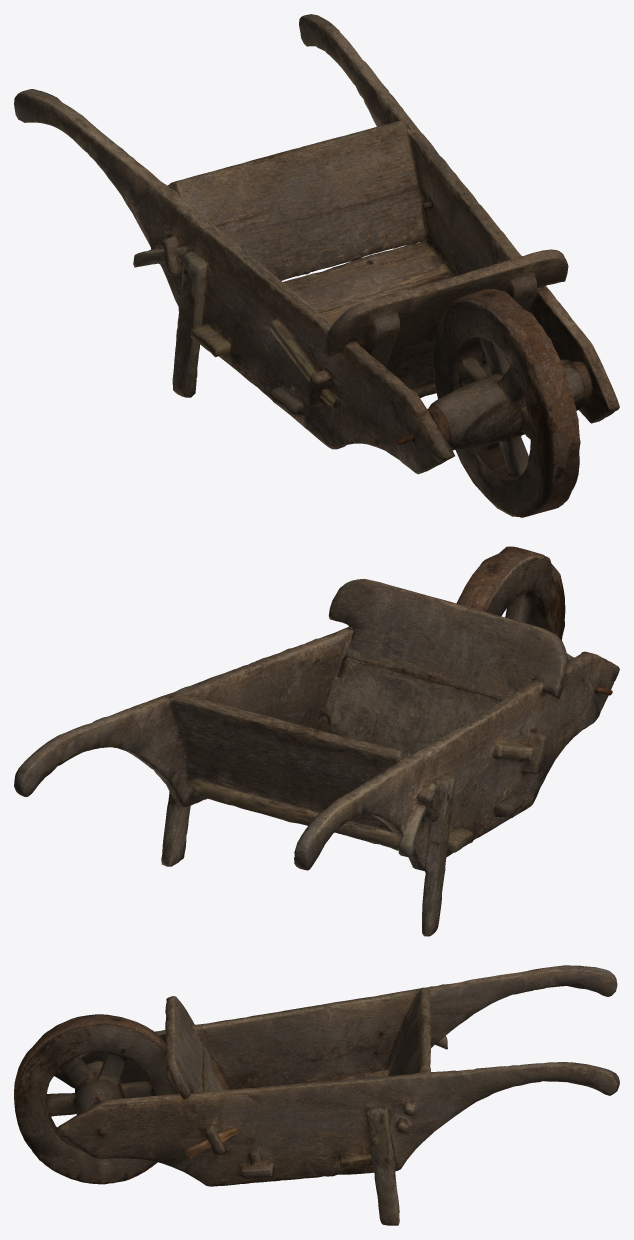
The model's file is tmruaaeda_tier_2.gltf.
3 renders of one model, top to bottom at view 1: azimuth 30°, elevation 25°; view 2: azimuth 150°, elevation 25°; view 3: azimuth 270°, elevation 25°, orthographic. The views are drawn at different scales.
Visible parts, largest first — view 1: tmruaaeda_LOD0_TIER2_000; view 2: tmruaaeda_LOD0_TIER2_000; view 3: tmruaaeda_LOD0_TIER2_000.
Boxes of the visible parts, x1=… form: tmruaaeda_LOD0_TIER2_000: x1=14, y1=14, x2=619, y2=517; tmruaaeda_LOD0_TIER2_000: x1=14, y1=546, x2=619, y2=936; tmruaaeda_LOD0_TIER2_000: x1=14, y1=965, x2=619, y2=1225.
Size of the model in its own units: 0.5998 by 0.4215 by 1.41.
Materials: 1 (1 with a texture image).
